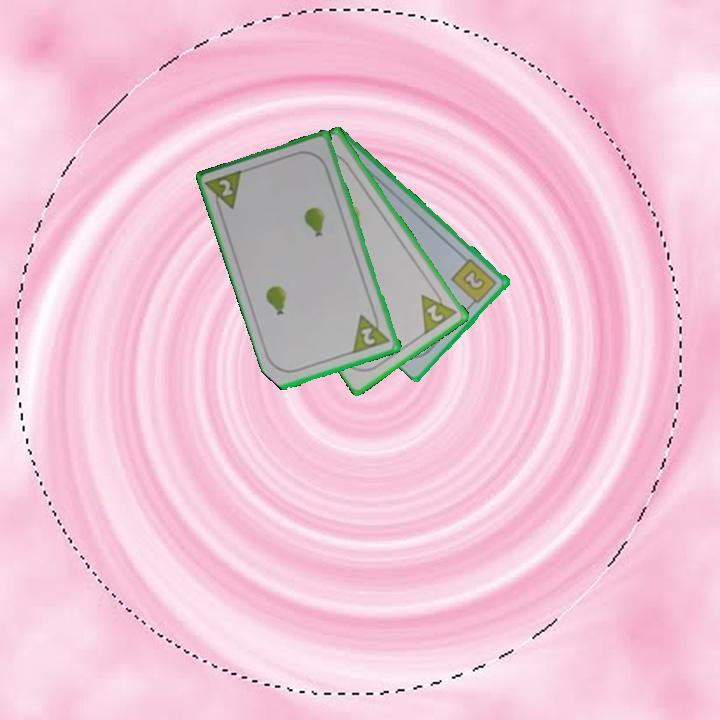2b: (448, 255, 500, 309)
2p: (417, 284, 460, 337), (203, 166, 247, 217), (350, 307, 394, 356)
